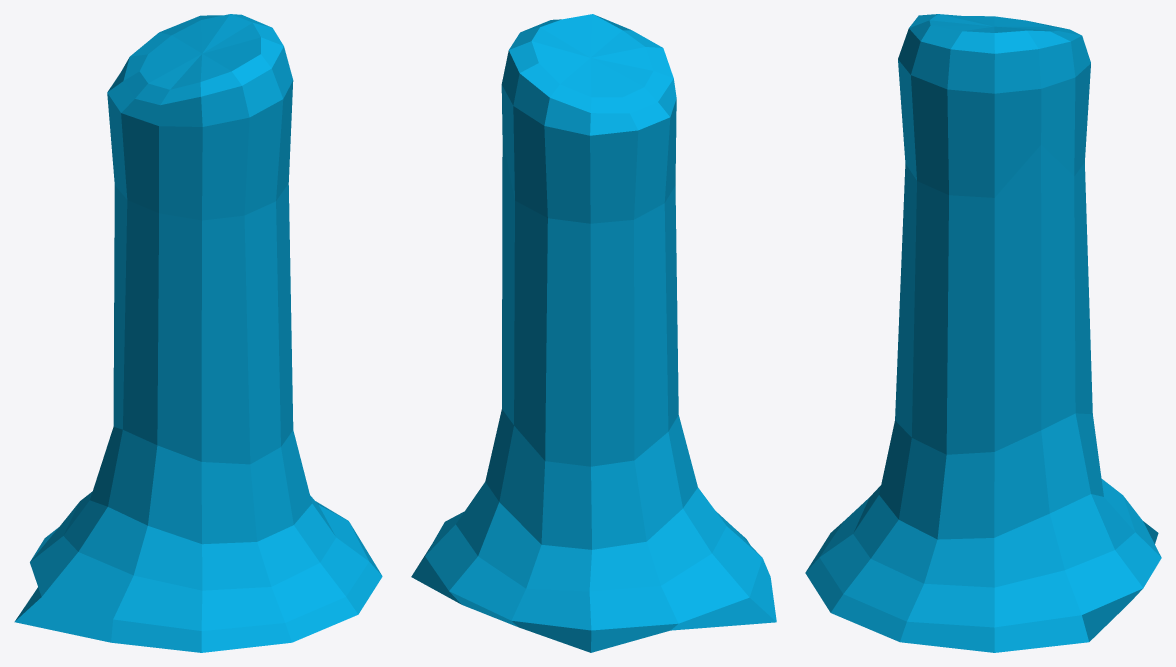
Rendered from Candle_01.fbx.
3 views of the same model, side by side, from view 1: azimuth 30°, elevation 25°; view 2: azimuth 150°, elevation 25°; view 3: azimuth 270°, elevation 25° (orthographic). The views are drawn at different scales.
Visible parts, largest first — view 1: Candle_01; view 2: Candle_01; view 3: Candle_01.
Boxes of the visible parts, <box> form: Candle_01: <box>14,14,382,652</box>; Candle_01: <box>411,14,776,652</box>; Candle_01: <box>805,14,1161,652</box>.
Bounding box in the file's own units: 27.08 × 40.71 × 23.24.
